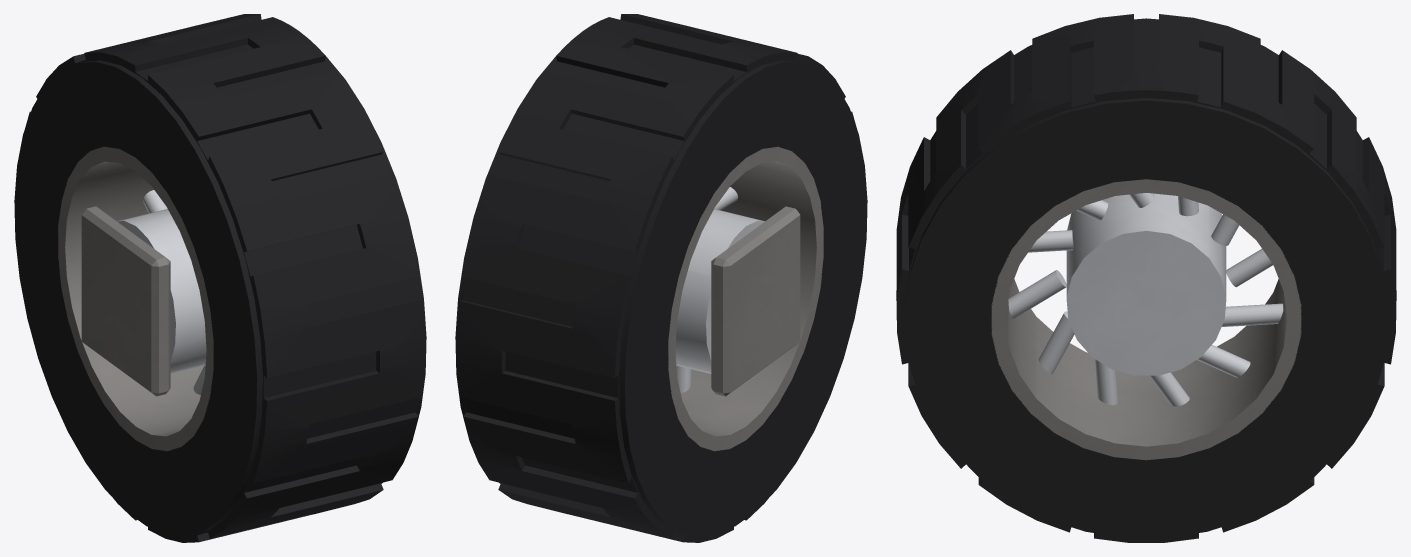
Rendered from ax_rover_17_airless_wheel_m.glb.
3 renders of one model, left to right at view 1: azimuth 30°, elevation 25°; view 2: azimuth 150°, elevation 25°; view 3: azimuth 270°, elevation 25°, orthographic.
Parts seen in each view (by area): view 1: wheel_tread, wheel_rim, mount_plate, hub, wheel_flex_spokes; view 2: wheel_tread, wheel_rim, mount_plate, hub, wheel_flex_spokes; view 3: wheel_tread, wheel_rim, hub, wheel_flex_spokes.
Boxes of the visible parts, x1,y1,x2,y2 form: wheel_tread: (14,14,426,542); wheel_rim: (58,146,213,451); mount_plate: (81,206,170,396); hub: (117,209,206,373); wheel_flex_spokes: (143,190,205,394); wheel_tread: (455,14,867,542); wheel_rim: (668,146,823,451); mount_plate: (711,206,800,396); hub: (675,209,764,373); wheel_flex_spokes: (676,187,737,392); wheel_tread: (896,14,1396,542); wheel_rim: (991,179,1301,460); hub: (1066,193,1226,375); wheel_flex_spokes: (1008,193,1283,406).
Size of the model in its own units: 0.39 by 0.8999 by 0.8999.
Materials: 3 (2 with a texture image).
